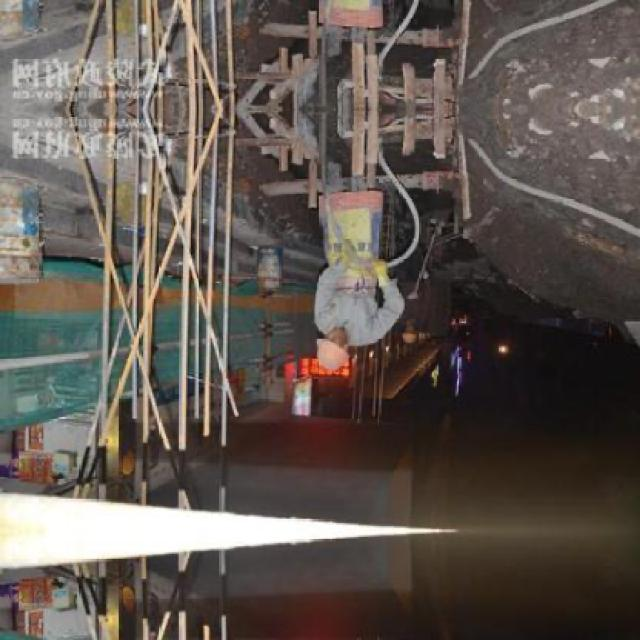con casco: (288, 314, 372, 392)
